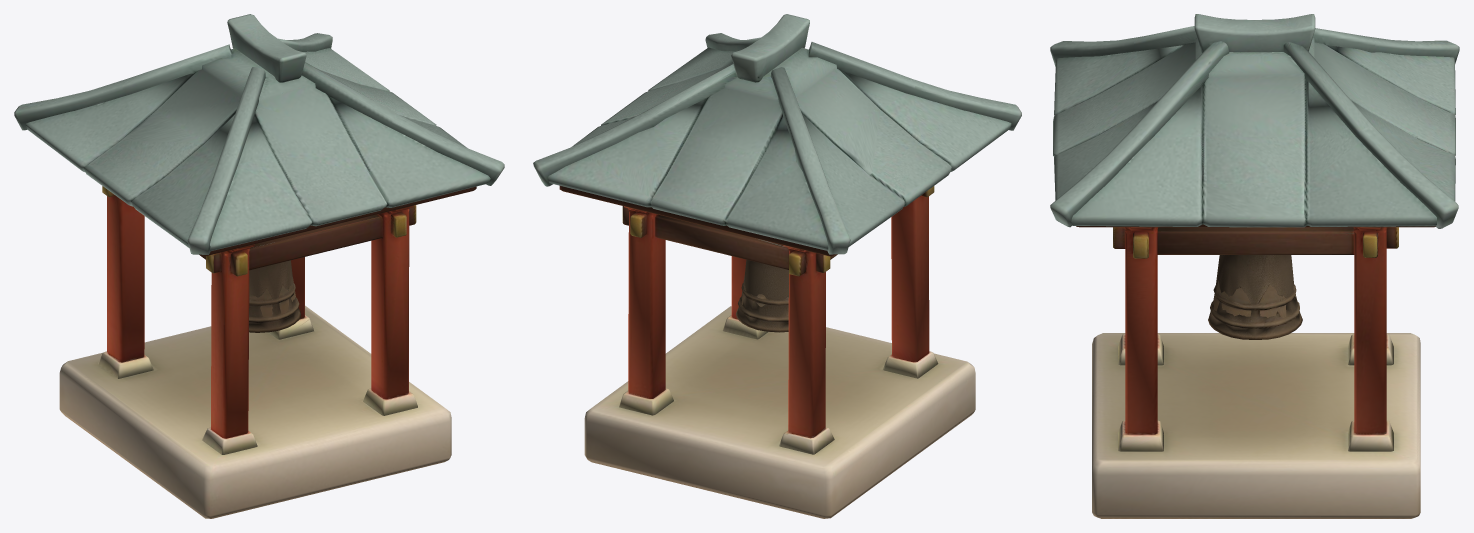
Rendered from tripo_convert_cd7ef4f3-f236-4a34-ac0e-55e620d2047c.fbx.
3 views of the same model, side by side, from view 1: azimuth 30°, elevation 25°; view 2: azimuth 150°, elevation 25°; view 3: azimuth 270°, elevation 25° (orthographic). The views are drawn at different scales.
Parts seen in each view (by area): view 1: tripo_node_cd7ef4f3; view 2: tripo_node_cd7ef4f3; view 3: tripo_node_cd7ef4f3.
Part boxes in pixels (bbox=[...]): tripo_node_cd7ef4f3: bbox=[14, 14, 504, 518]; tripo_node_cd7ef4f3: bbox=[533, 14, 1021, 518]; tripo_node_cd7ef4f3: bbox=[1050, 14, 1459, 518].
Size of the model in its own units: 0.8301 by 0.998 by 0.8418.
1 material, 1 textured.
